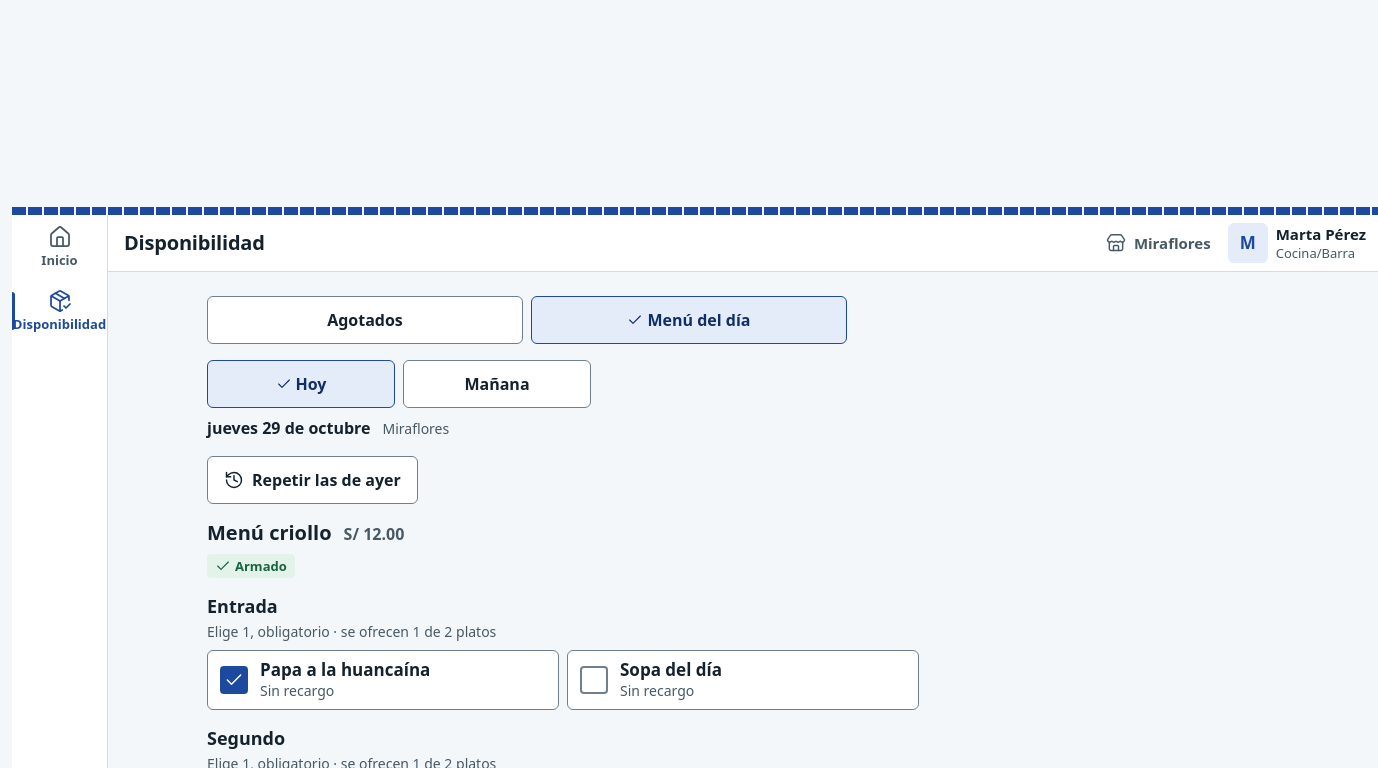
it: menú del día: armar › "Mañana" trae el menú del día siguiente y guarda con esa fecha
The width and height of the screenshot is (1378, 768).
(page scrolled)
Click the button "Mañana" at {"x": 497, "y": 384}, box top-left (403, 360), bottom-right (591, 408)
(page scrolled)
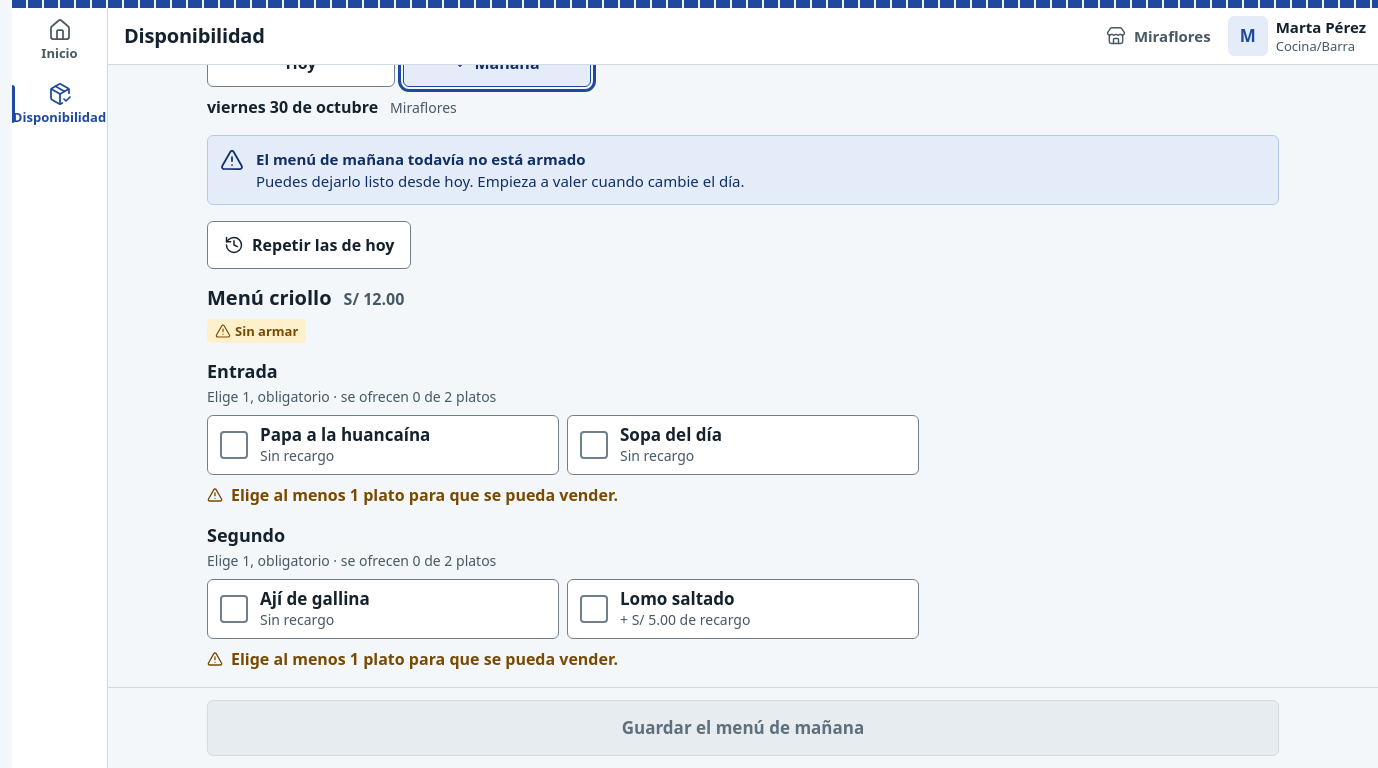
Now the text "viernes 30 de octubre" is shown, box top-left (207, 95), bottom-right (378, 119)
Now the message that starts with "El menú de mañana todavía no está armado" shows "Puedes dejarlo listo desde hoy", box top-left (256, 171), bottom-right (744, 191)
Click the checkbox labelled "Sopa del día Sin recargo" at {"x": 671, "y": 434}, box top-left (567, 415), bottom-right (919, 475)
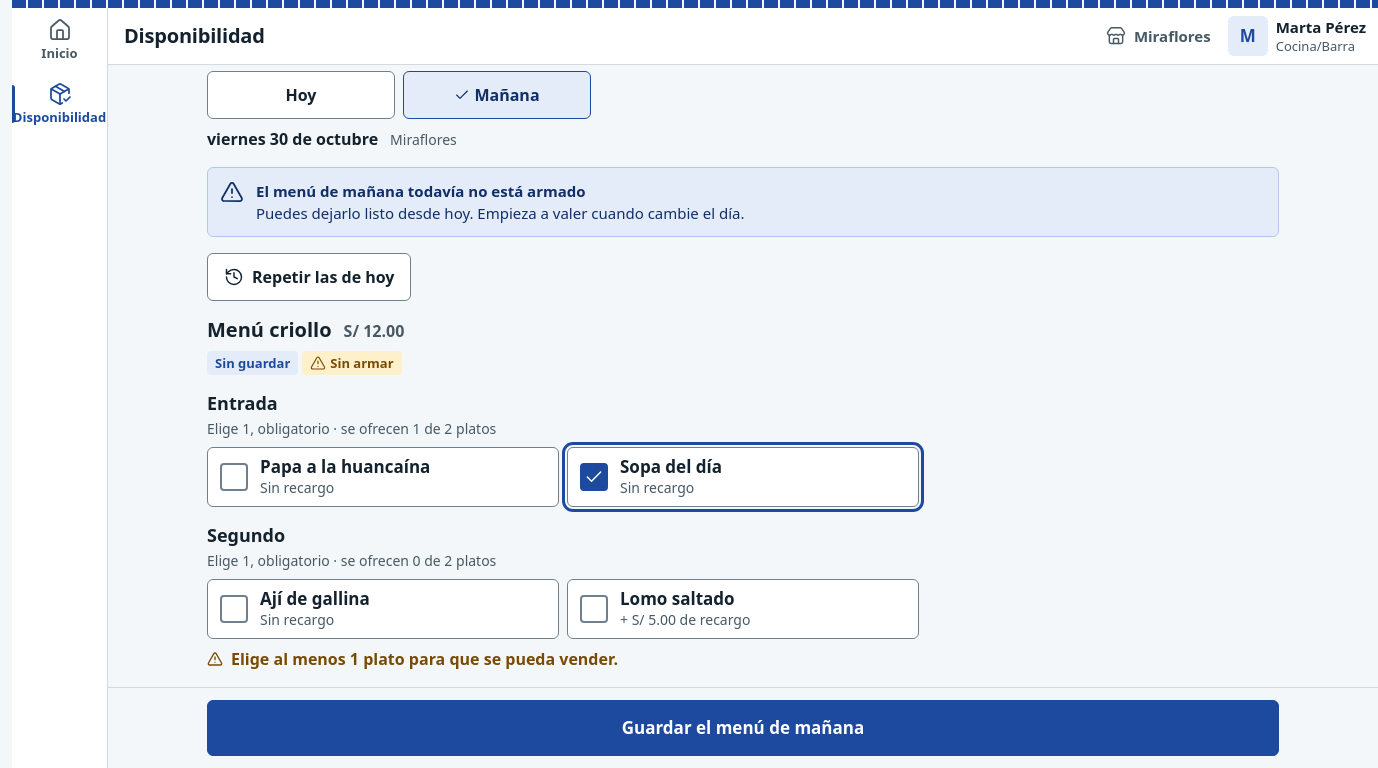
Click the checkbox labelled "Ají de gallina Sin recargo" at {"x": 315, "y": 598}, box top-left (207, 579), bottom-right (559, 639)
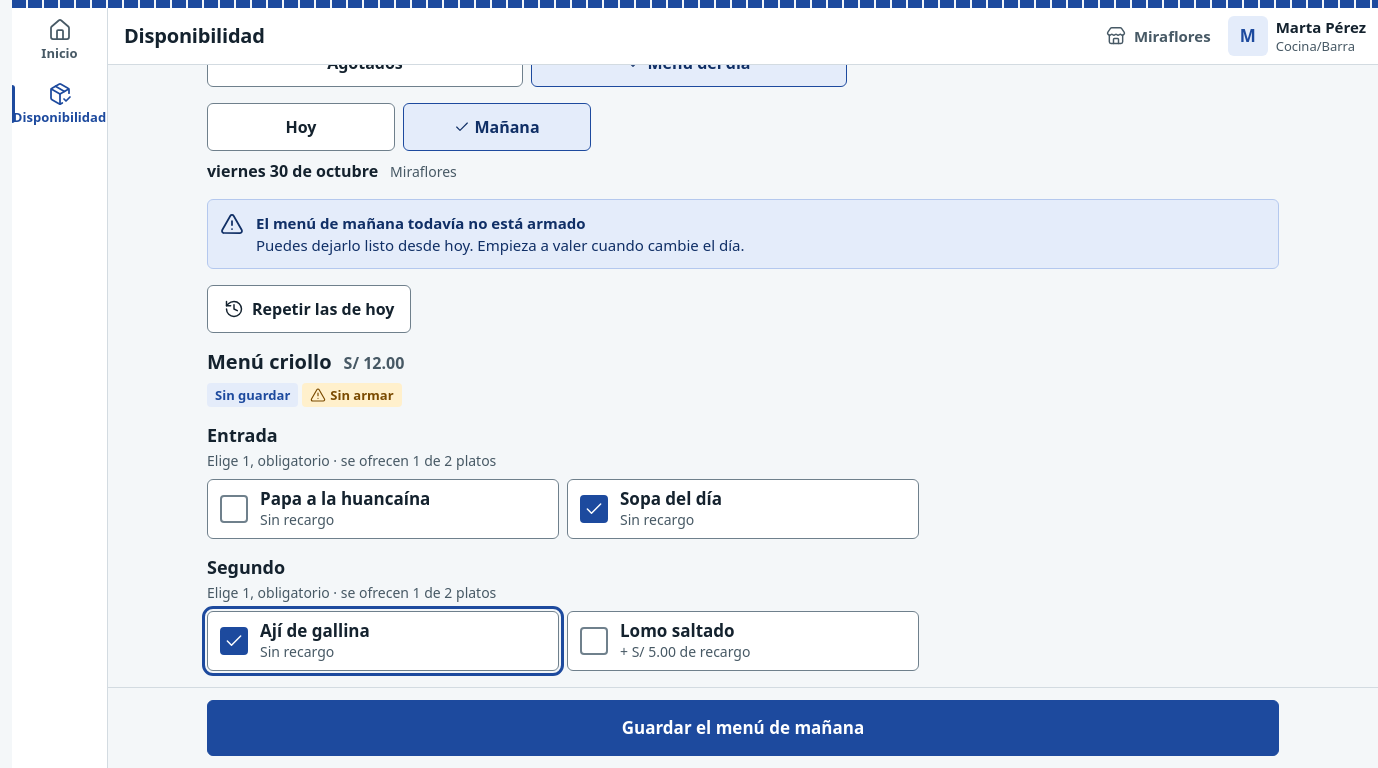
Click the button "Guardar el menú de mañana" at {"x": 743, "y": 728}, box top-left (207, 700), bottom-right (1279, 756)
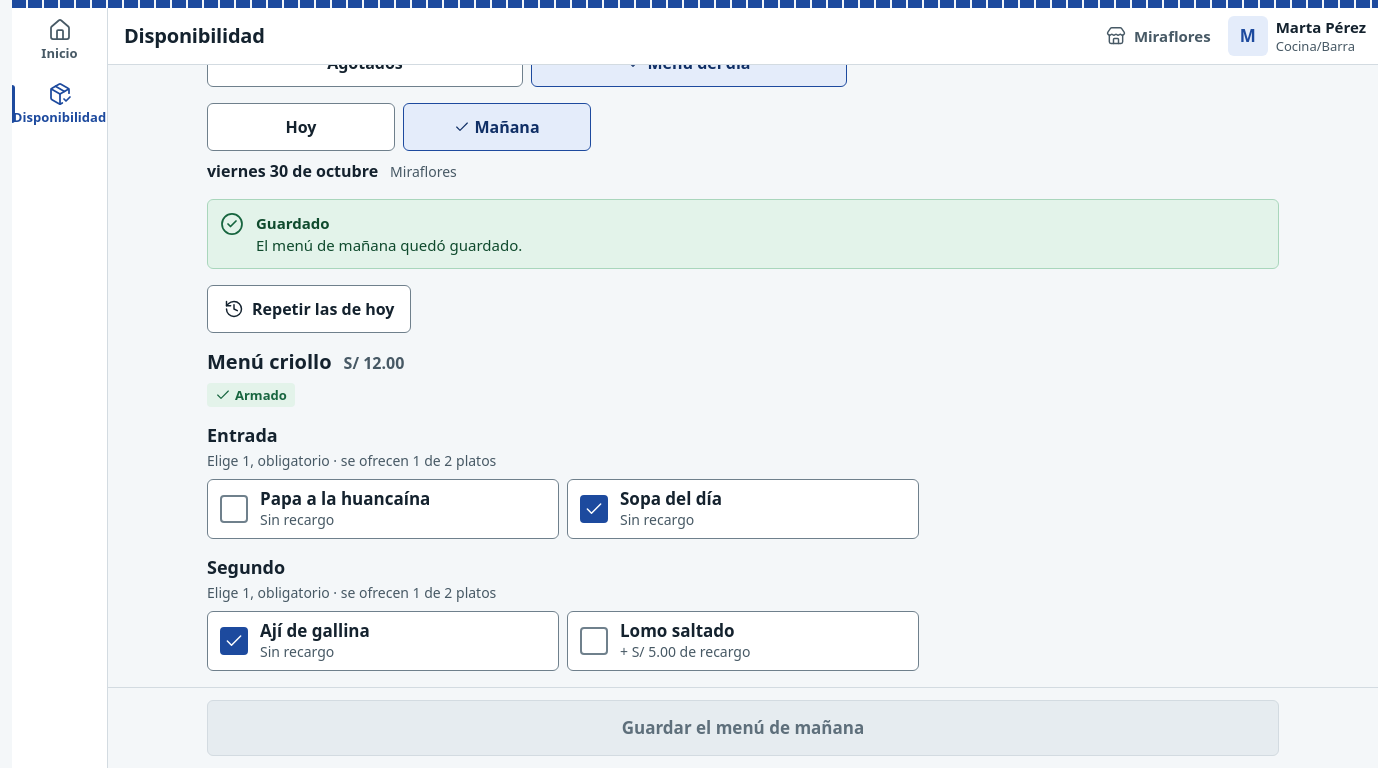
Now the text "El menú de mañana quedó guardado." is shown, box top-left (256, 235), bottom-right (522, 255)
